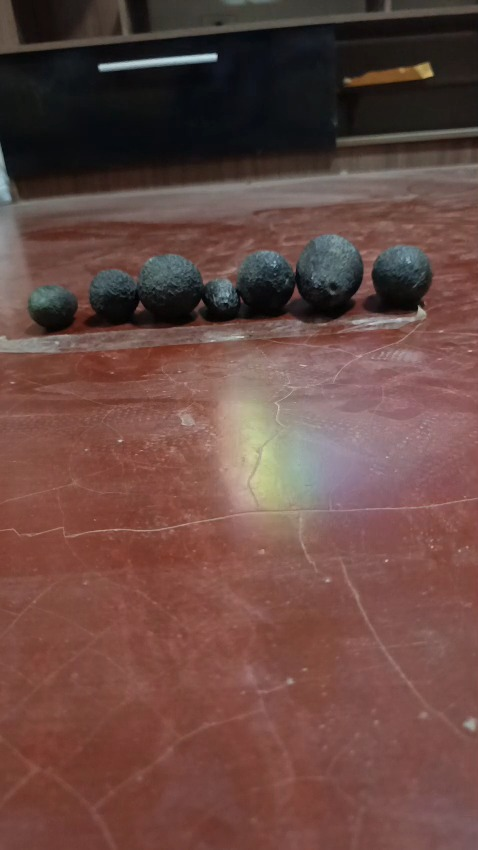Primera: (295, 233, 364, 311), (138, 254, 203, 322)
Segunda: (371, 244, 432, 309), (236, 250, 296, 314), (89, 268, 139, 323)
Tercera: (27, 284, 77, 330), (201, 278, 240, 320)
